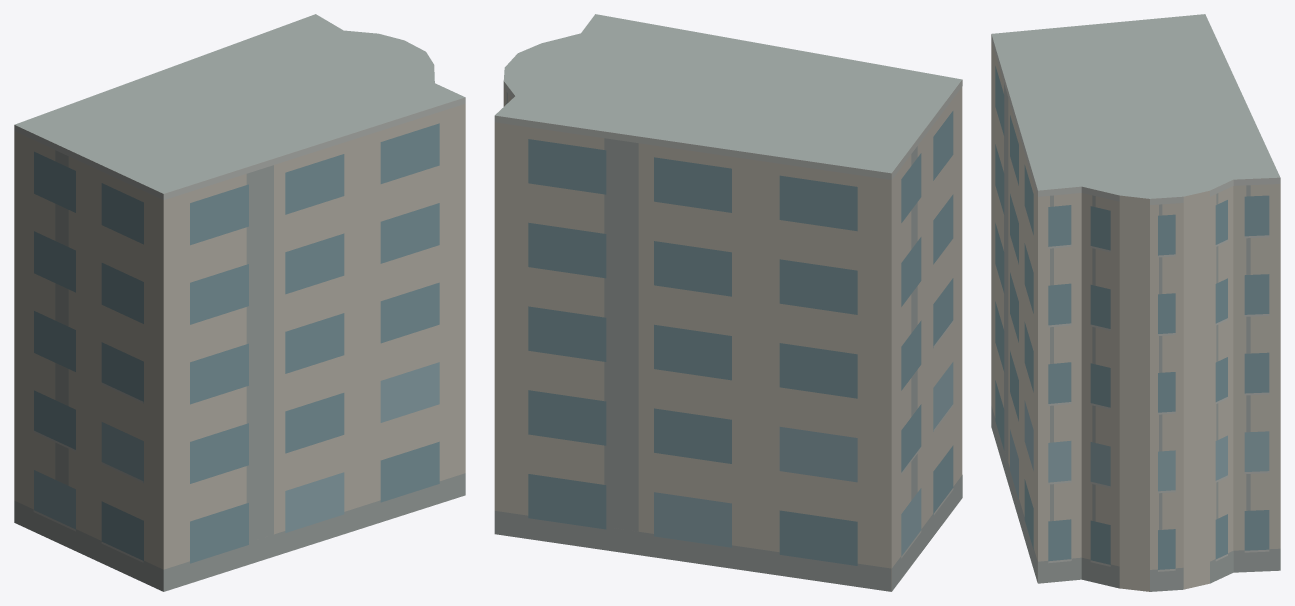
The model's file is survey-upis-32873813.glb.
3 views of the same model, side by side, from view 1: azimuth 30°, elevation 25°; view 2: azimuth 150°, elevation 25°; view 3: azimuth 270°, elevation 25° (orthographic). The views are drawn at different scales.
Visible parts, largest first — view 1: survey-upis-32873813.tmp; view 2: survey-upis-32873813.tmp; view 3: survey-upis-32873813.tmp.
Boxes of the visible parts, <box> form: survey-upis-32873813.tmp: <box>14,14,465,591</box>; survey-upis-32873813.tmp: <box>494,14,962,591</box>; survey-upis-32873813.tmp: <box>991,14,1280,591</box>.
Size of the model in its own units: 15.4 by 15.25 by 10.18.
